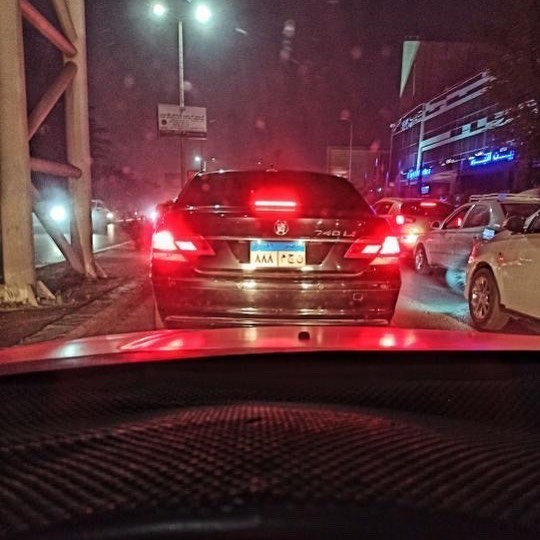carpl: (246, 236, 308, 268)
